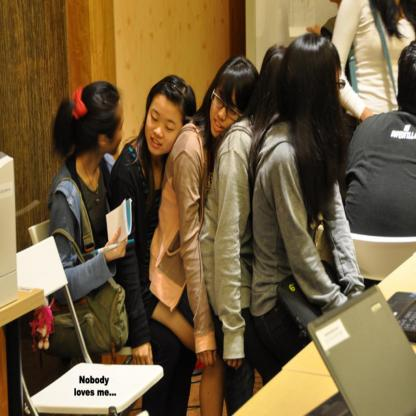board: (306, 270, 412, 416), (386, 291, 415, 340)
